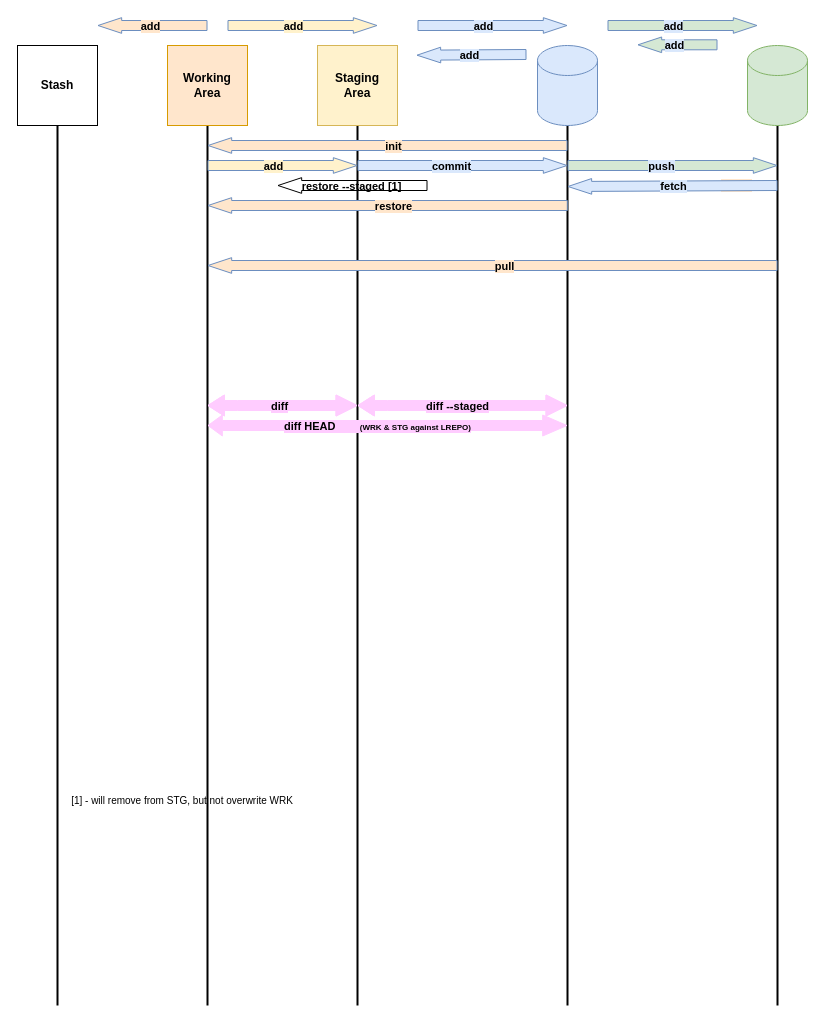
The diagram is 827 pixels wide and 1025 high, and some of its shapes have lost their labels. Here are the shapes that lost their labels. From the top down, the centre of each, then its label:
At point 567,85: "LOCAL Repo".
At point 777,85: "REMOTE Repo".
